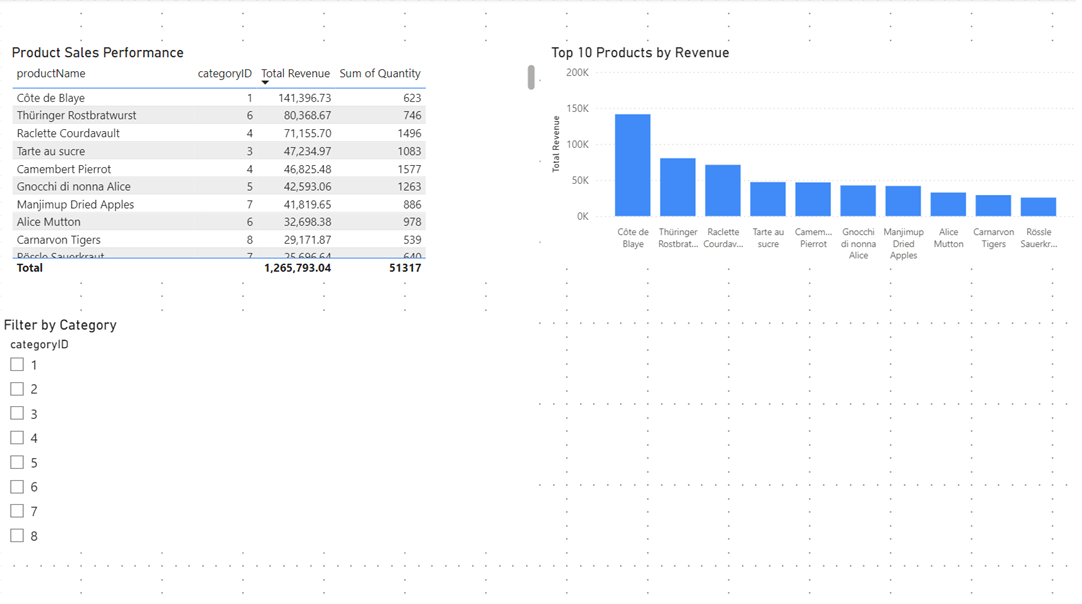

Layout of this report page (visuals, bound fields, positions):
{"tool":"powerbi","page":{"name":"Product Performance","canvas":[1280,720],"ordinal":2},"visuals":[{"type":"tableEx","title":"Product Sales Performance","fields":{"Values":["Products.productName","Products.categoryID","OrderDetails.Total Revenue","Sum(OrderDetails.Quantity)"]},"box":[9.3,53.3,630.7,280],"z":0},{"type":"clusteredColumnChart","title":"Top 10 Products by Revenue","fields":{"Category":["Products.productName"],"Y":["OrderDetails.Total Revenue"]},"box":[649.3,53.3,630.7,265.3],"z":1},{"type":"slicer","title":"Filter by Category","fields":{"Values":["Products.categoryID"]},"box":[0,377.3,630.7,280],"z":2}]}

Visuals, with their boxes in screenshot pixels (x1, y1, x2, y2), scaled from the page's 1280x720 canvas onto the 1082x604 screenshot:
"Product Sales Performance" tableEx: [left=8, top=45, right=541, bottom=280]
"Top 10 Products by Revenue" clusteredColumnChart: [left=549, top=45, right=1081, bottom=267]
"Filter by Category" slicer: [left=0, top=317, right=533, bottom=551]
